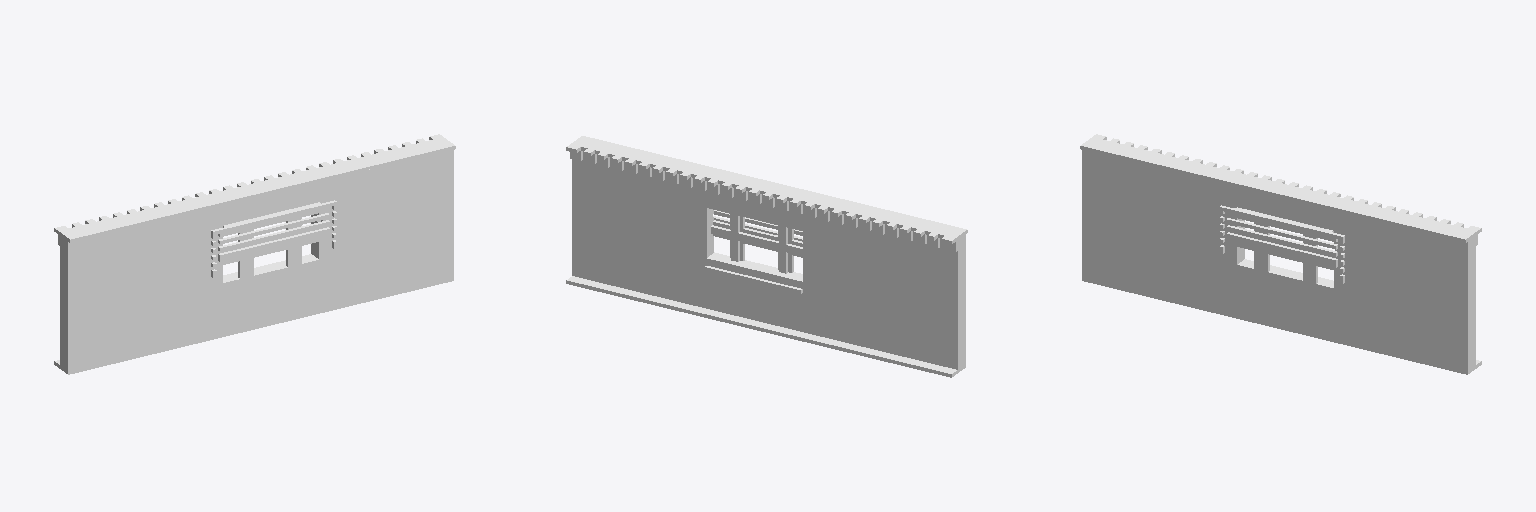
The model's file is classic:wall-outside-window.obj.
3 views of the same model, side by side, from view 1: azimuth 30°, elevation 25°; view 2: azimuth 150°, elevation 25°; view 3: azimuth 330°, elevation 25° (orthographic).
Visible parts, largest first — view 1: classic:wall-outside-window; view 2: classic:wall-outside-window; view 3: classic:wall-outside-window.
Boxes of the visible parts, <box> form: classic:wall-outside-window: <box>54,134,455,374</box>; classic:wall-outside-window: <box>566,136,967,377</box>; classic:wall-outside-window: <box>1080,134,1481,374</box>.
Bounding box in the file's own units: 112 × 38 × 9.